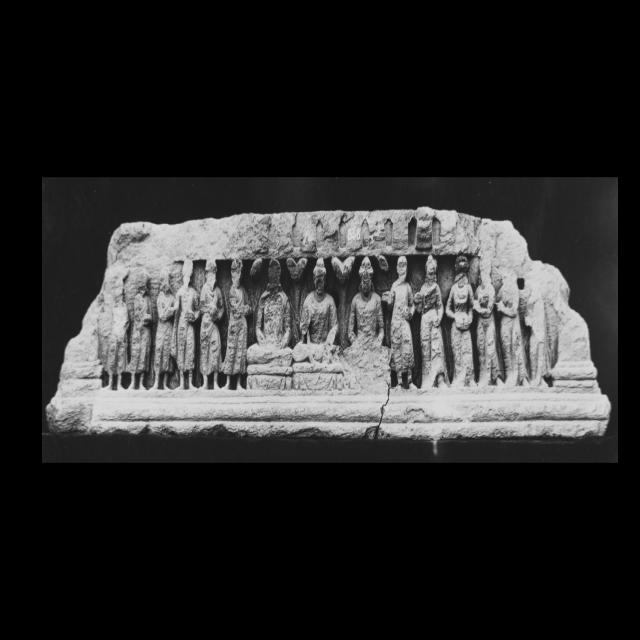buddha-sitting: (246, 258, 392, 391)
